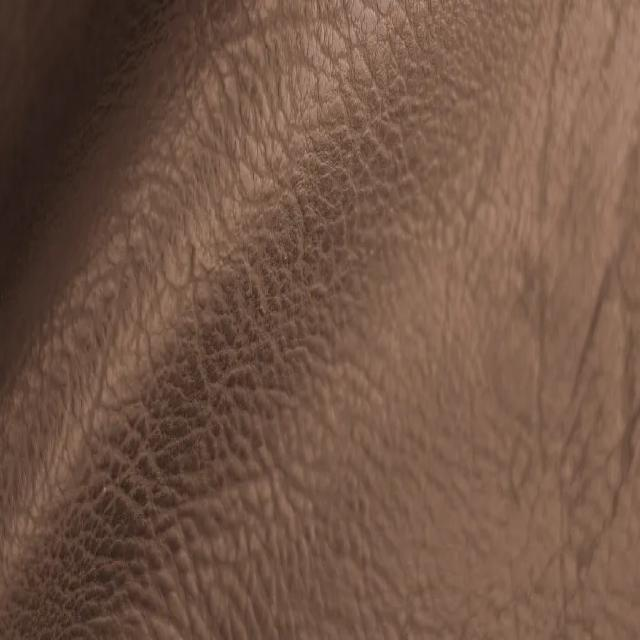Crease: (21, 383, 168, 574), (203, 138, 330, 312)
